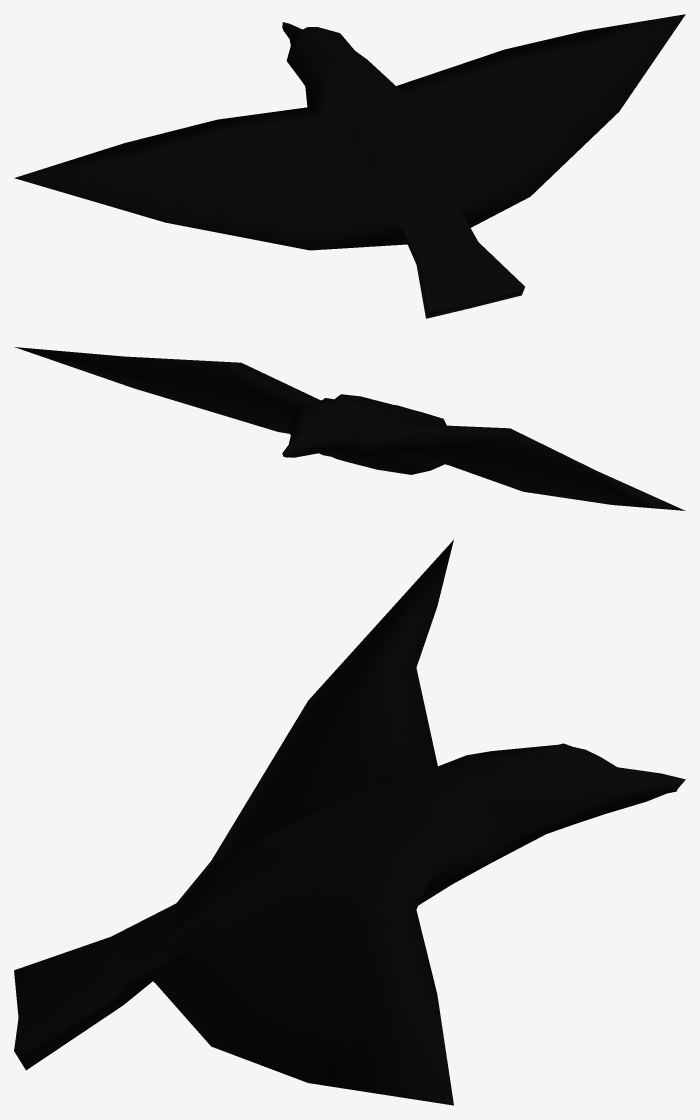
The model's file is decayCrow.fbx.
3 renders of one model, top to bottom at view 1: azimuth 30°, elevation 25°; view 2: azimuth 150°, elevation 25°; view 3: azimuth 270°, elevation 25°, orthographic. The views are drawn at different scales.
Visible parts, largest first — view 1: pSphere5; view 2: pSphere5; view 3: pSphere5.
Boxes of the visible parts, x1,y1,x2,y2 form: pSphere5: [14, 14, 685, 318]; pSphere5: [14, 347, 685, 510]; pSphere5: [14, 540, 685, 1105].
Size of the model in its own units: 5 by 1.19 by 2.51.
